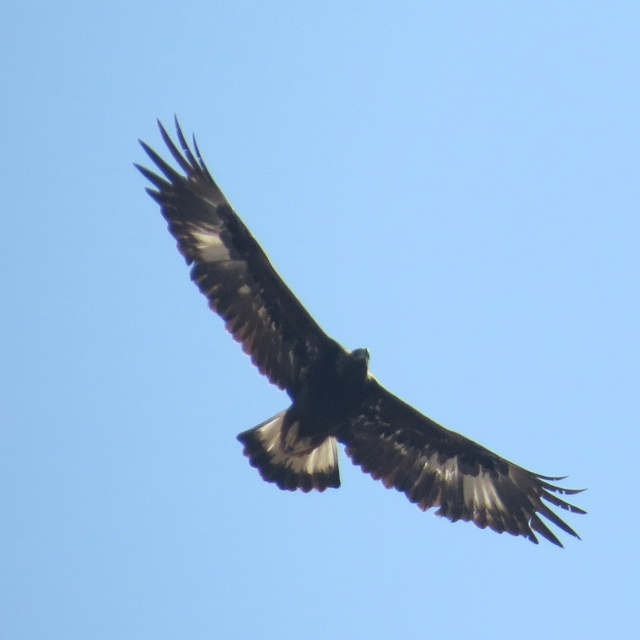Eagle: (132, 106, 589, 555)
